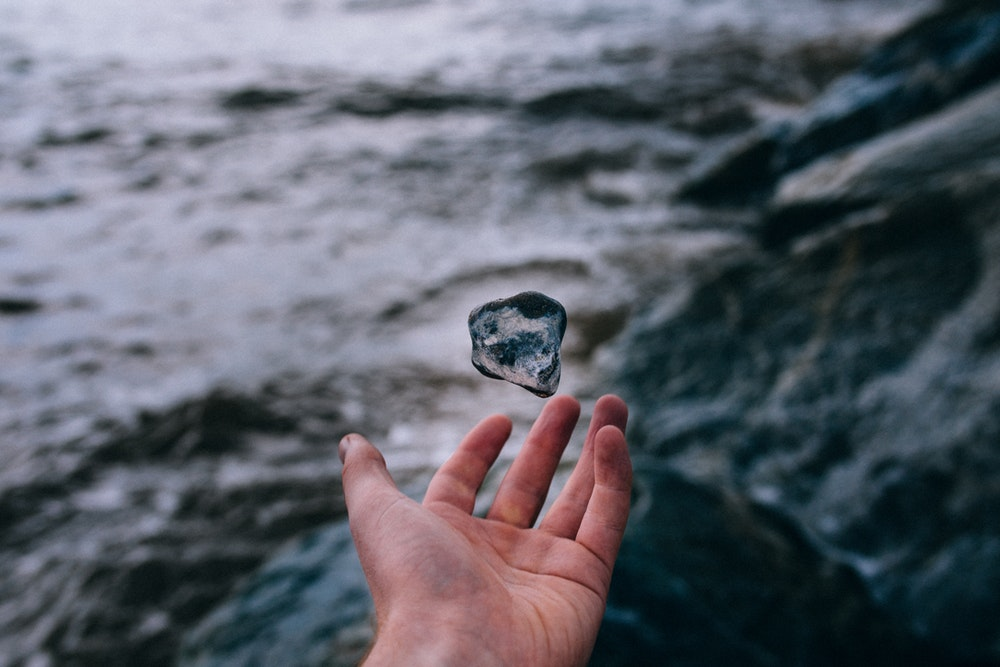palm: (413, 509, 600, 644)
